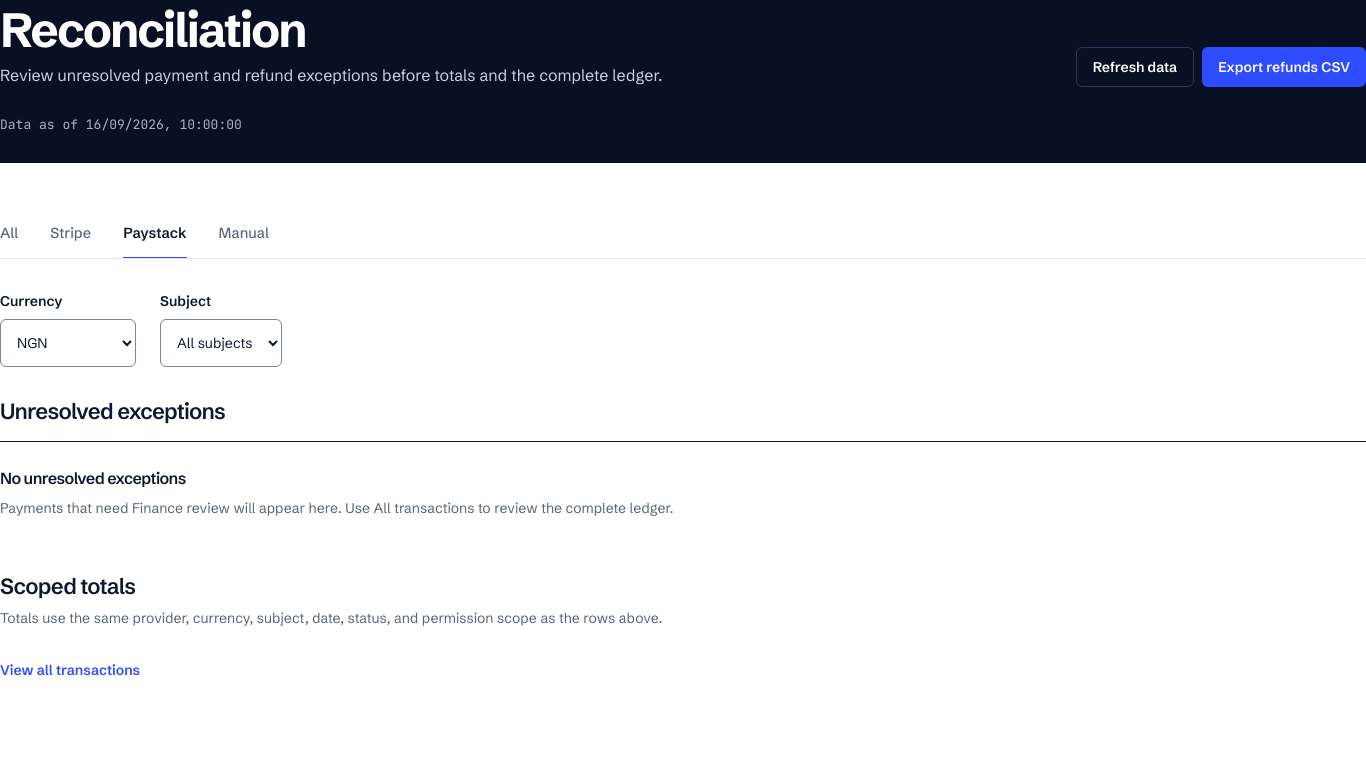
Test: ReconciliationWorkspace › retains refund export options and reason after a failed queue request
Step 1. Click the button "Export refunds CSV" → (1284,67), box [1202,47,1365,87]
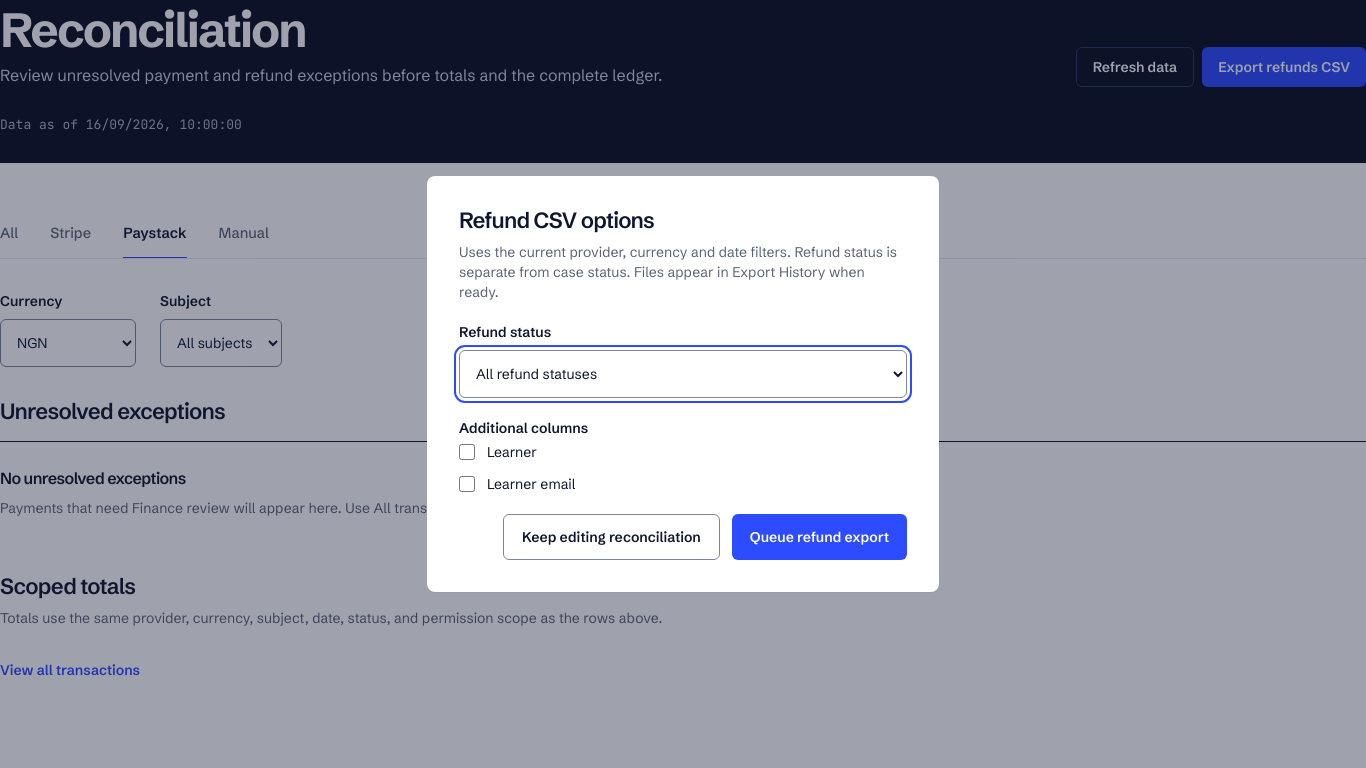
Step 2. Click the checkbox labelled "Learner" → (467,452), box [459,444,475,460]
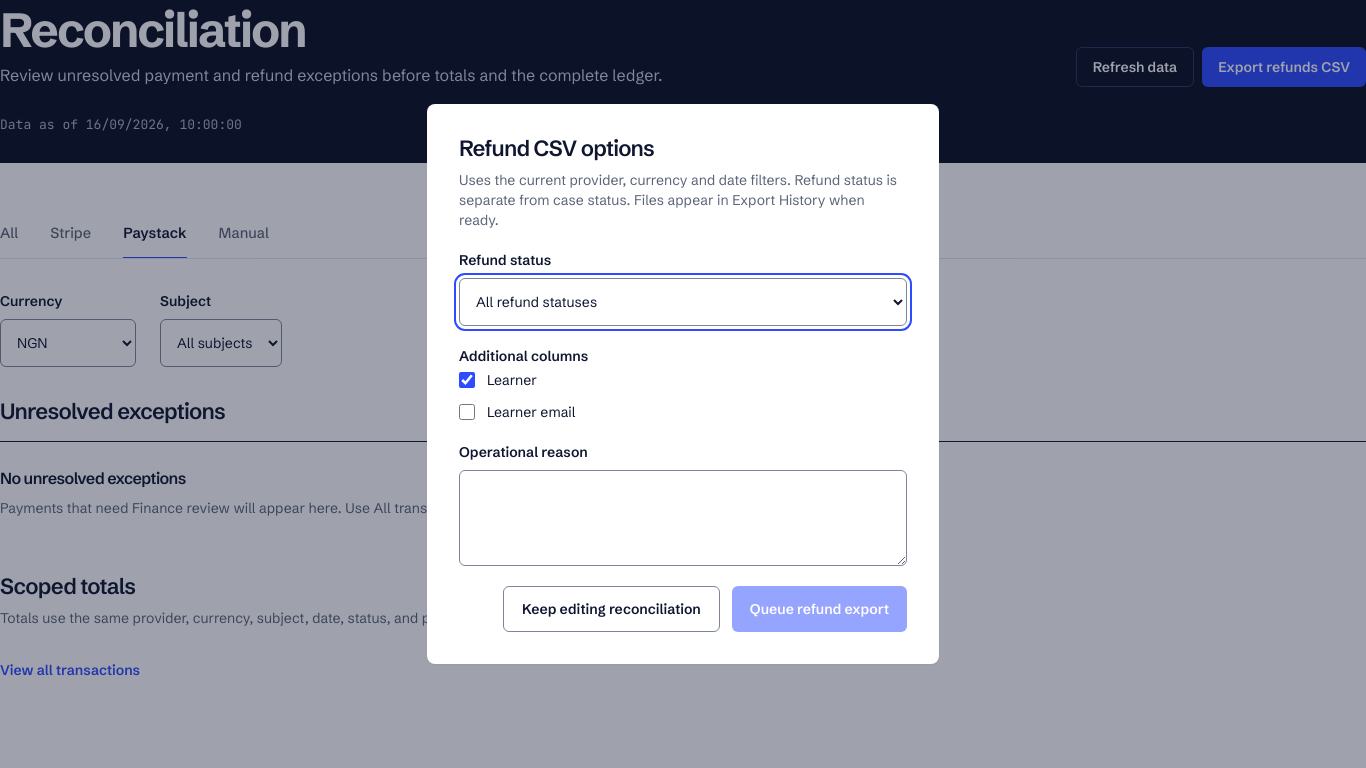
Step 3. Type "Finance review" into the text box labelled "Operational reason" → (683,518), box [459,470,907,566]
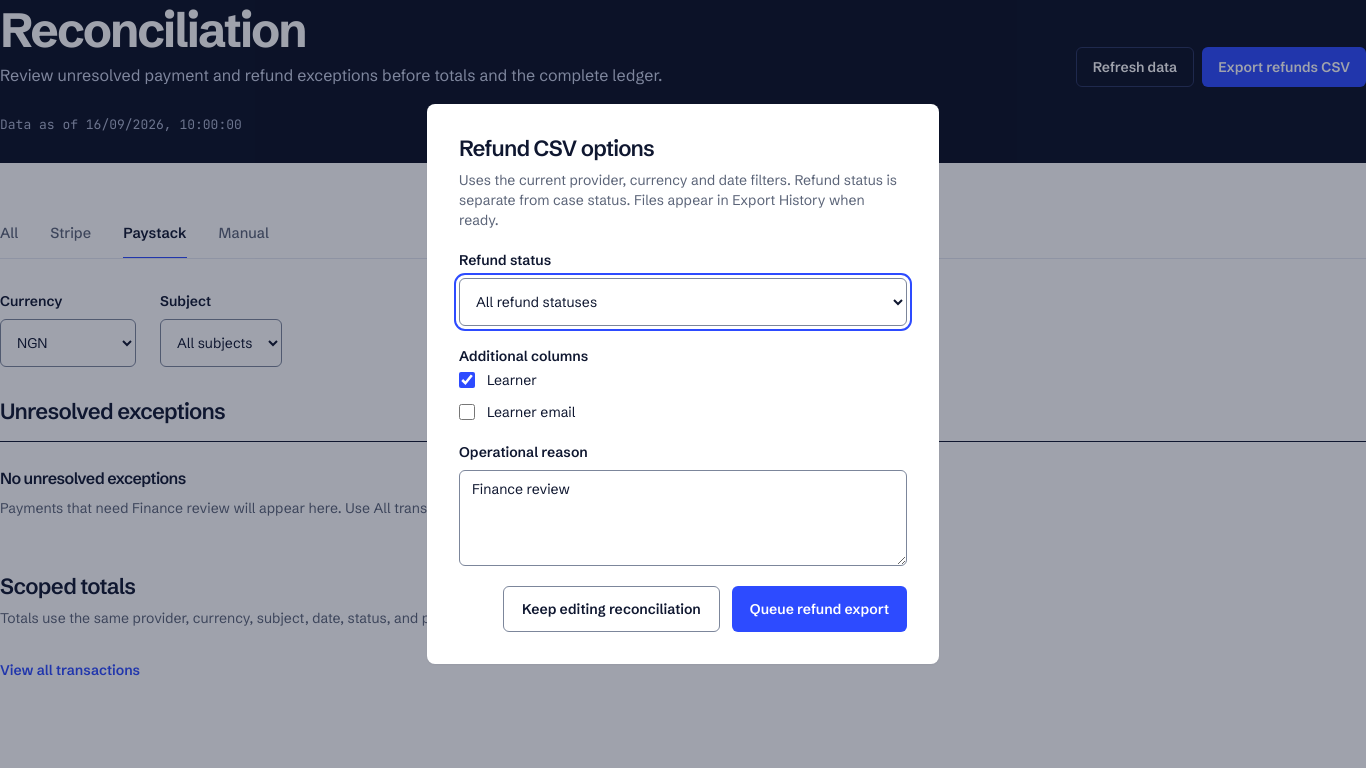
Step 4. Click the button "Queue refund export" → (819,609), box [732,586,907,632]
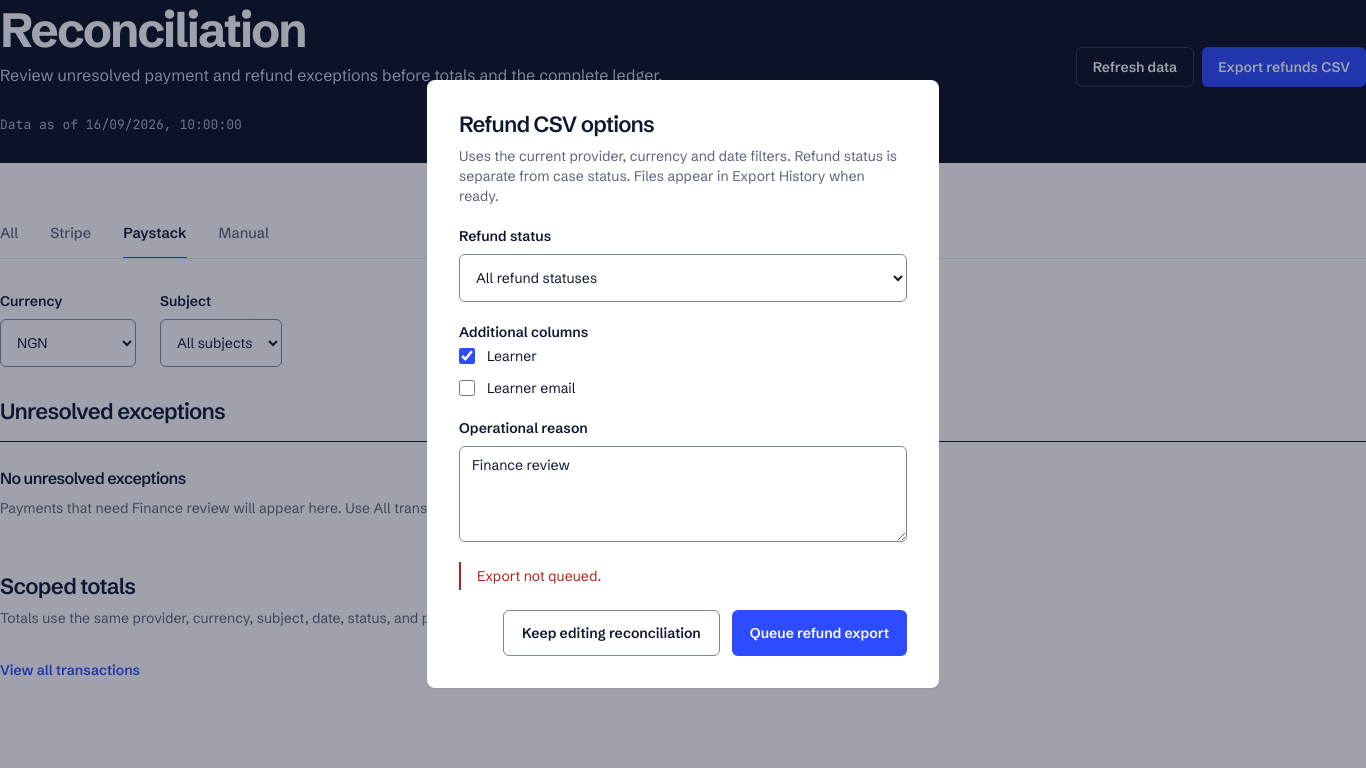
expect the checkbox labelled "Learner" is checked: met, box [459,348,475,364]
expect the message "Export not queued." is shown: met, box [459,562,907,590]
